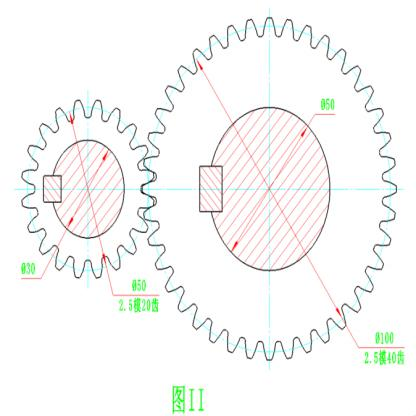FOD: (141, 10, 400, 366), (19, 94, 156, 281)
